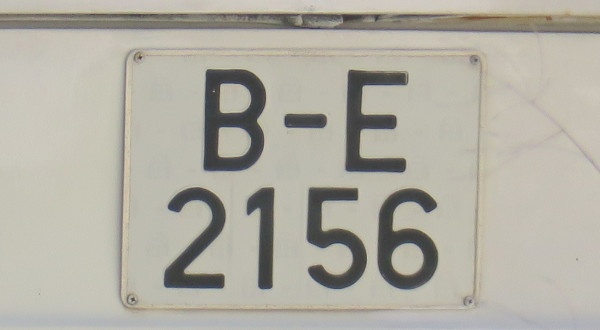license_plate: (119, 47, 486, 312)
